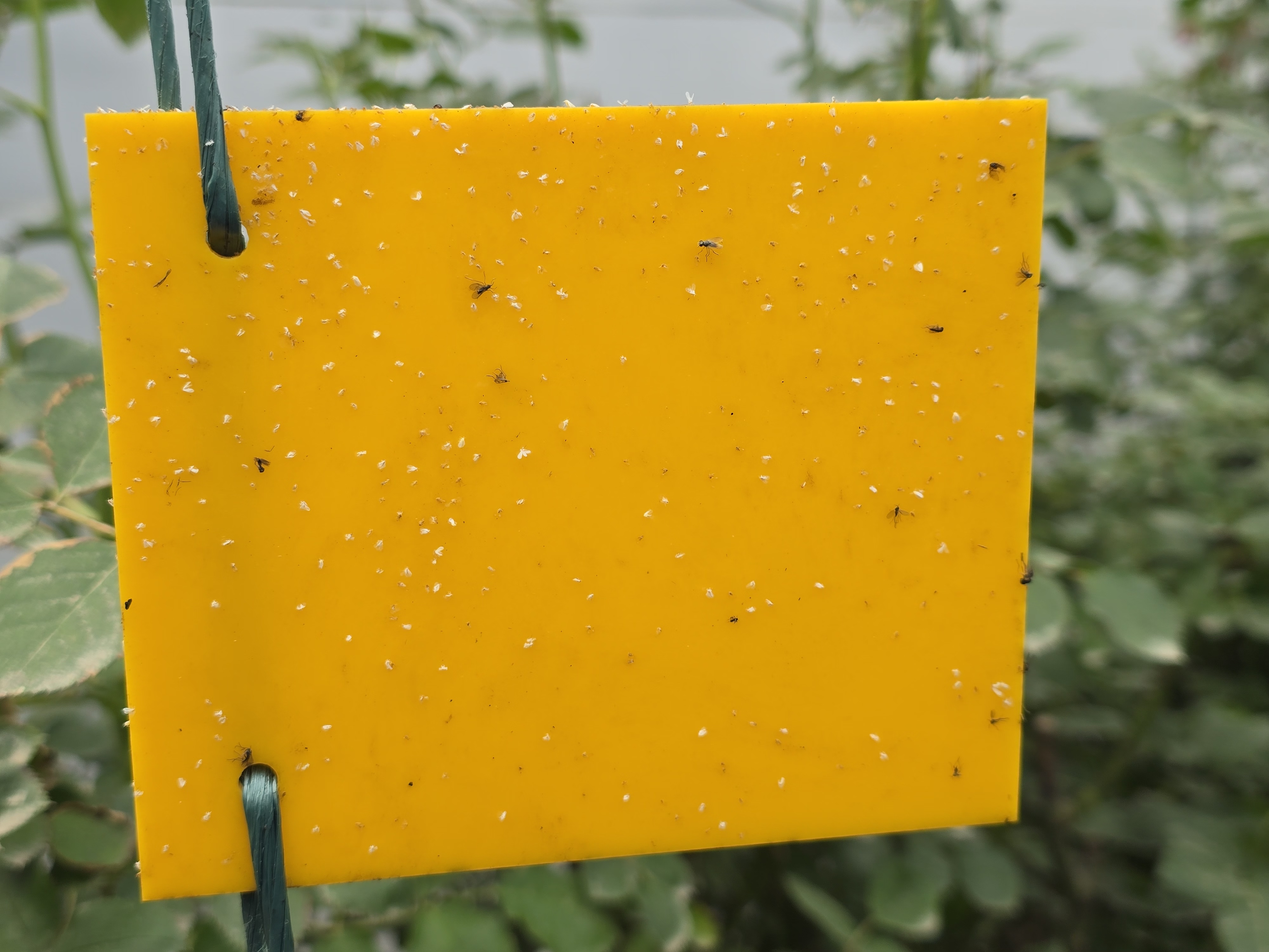WF: (682, 282, 700, 299), (856, 174, 873, 191), (693, 725, 712, 740), (516, 446, 532, 462), (936, 541, 951, 557), (786, 202, 803, 216), (557, 417, 572, 432), (683, 91, 697, 107), (950, 677, 966, 691), (182, 381, 196, 396), (912, 261, 926, 276), (703, 587, 718, 601), (440, 441, 454, 455), (510, 209, 524, 223), (716, 126, 730, 140), (881, 258, 894, 273), (774, 777, 789, 790), (993, 681, 1012, 691), (989, 688, 1006, 699), (299, 500, 312, 514), (308, 162, 321, 176), (350, 275, 364, 288), (433, 545, 447, 558), (383, 659, 396, 673), (537, 173, 551, 186), (764, 597, 778, 610), (877, 750, 891, 763), (557, 288, 570, 302), (244, 312, 259, 324), (405, 464, 421, 475), (298, 209, 312, 221), (664, 109, 678, 121), (867, 137, 879, 151), (951, 411, 963, 425), (141, 539, 156, 550), (760, 303, 775, 314), (999, 117, 1014, 128), (879, 375, 894, 386), (911, 490, 926, 501), (106, 416, 122, 426), (458, 435, 468, 451), (822, 162, 832, 178), (517, 170, 530, 182), (1016, 429, 1029, 441), (375, 539, 386, 553), (436, 663, 450, 674), (930, 393, 941, 407), (758, 474, 772, 485), (950, 667, 964, 678), (561, 100, 578, 109), (848, 378, 865, 387), (321, 363, 336, 373), (690, 122, 700, 137), (836, 247, 851, 257), (674, 551, 689, 561), (151, 416, 163, 428), (642, 508, 654, 520), (509, 301, 525, 310), (135, 523, 148, 534), (309, 824, 322, 835), (354, 142, 367, 153), (672, 166, 685, 177), (868, 732, 881, 743), (272, 423, 283, 436), (186, 355, 200, 365), (370, 122, 384, 132), (249, 172, 263, 182), (294, 603, 308, 613), (791, 188, 805, 198), (813, 581, 827, 591), (404, 103, 419, 112), (501, 102, 516, 111), (127, 399, 138, 411), (222, 414, 234, 425), (177, 777, 188, 789), (369, 136, 381, 147), (270, 183, 281, 195), (332, 198, 344, 209), (371, 330, 383, 341), (447, 518, 459, 529), (498, 810, 509, 822), (429, 113, 440, 125), (675, 138, 686, 150), (719, 820, 731, 831), (188, 466, 201, 476), (285, 451, 298, 461), (433, 582, 443, 595), (439, 122, 452, 132), (696, 150, 709, 160), (798, 155, 808, 168), (989, 246, 1002, 256), (994, 433, 1007, 443), (745, 580, 758, 590), (777, 725, 790, 735), (698, 802, 708, 815), (263, 263, 277, 272), (401, 623, 415, 632), (617, 100, 631, 109), (884, 399, 898, 408), (621, 793, 632, 804), (766, 120, 777, 131), (827, 108, 838, 119), (147, 380, 157, 392), (122, 707, 137, 715), (300, 763, 312, 773), (367, 844, 379, 854), (239, 129, 249, 141), (835, 125, 845, 137), (1002, 698, 1014, 708), (272, 383, 284, 393), (297, 278, 310, 287), (378, 459, 387, 472), (404, 565, 413, 578), (867, 485, 880, 494), (339, 386, 348, 399), (173, 468, 187, 476), (317, 557, 325, 571), (696, 185, 710, 193), (107, 498, 118, 508), (202, 812, 213, 822), (161, 844, 172, 854), (362, 285, 372, 296), (472, 453, 483, 463), (345, 533, 356, 543), (542, 733, 553, 743), (978, 172, 989, 182), (469, 301, 479, 312), (618, 354, 629, 364), (213, 710, 225, 719), (210, 600, 222, 609), (287, 191, 299, 200), (332, 261, 344, 270), (930, 381, 942, 390), (194, 758, 203, 770), (213, 733, 225, 742), (226, 313, 238, 322), (240, 463, 252, 472), (204, 139, 216, 148), (156, 107, 168, 116), (221, 540, 236, 547), (370, 105, 385, 112), (505, 294, 518, 302), (107, 108, 120, 116), (261, 230, 271, 240), (338, 309, 348, 319), (660, 496, 670, 506), (654, 137, 664, 147), (584, 592, 595, 601), (411, 129, 422, 138), (294, 760, 303, 771), (416, 370, 427, 379), (134, 790, 146, 798), (306, 219, 318, 227), (235, 329, 247, 337), (393, 360, 405, 368), (455, 149, 467, 157), (761, 454, 773, 462), (745, 606, 757, 614), (95, 107, 107, 115), (356, 451, 369, 458), (419, 695, 432, 702), (514, 499, 527, 506), (232, 106, 242, 115), (415, 190, 424, 200), (527, 113, 537, 122), (322, 724, 333, 732), (307, 143, 318, 151), (325, 253, 336, 261), (420, 528, 431, 536), (177, 374, 191, 380), (362, 191, 374, 198), (523, 643, 535, 650), (460, 105, 474, 111), (977, 159, 989, 166), (219, 716, 228, 725), (378, 242, 387, 251), (101, 408, 109, 418), (345, 634, 353, 644), (487, 565, 497, 573), (467, 186, 477, 194), (851, 284, 861, 292), (90, 161, 100, 169), (174, 107, 184, 115), (132, 477, 143, 484), (284, 327, 291, 338), (572, 577, 583, 584), (555, 179, 566, 186), (180, 348, 192, 354), (295, 317, 304, 325), (527, 637, 539, 643), (589, 103, 601, 109), (791, 182, 803, 188), (1018, 96, 1030, 102), (491, 294, 500, 302), (145, 261, 154, 269), (198, 499, 208, 506), (204, 699, 214, 706), (136, 109, 146, 116), (268, 105, 276, 113), (461, 143, 470, 150), (276, 107, 285, 114), (124, 722, 134, 728), (168, 459, 179, 464), (139, 557, 150, 562), (339, 107, 350, 112), (409, 197, 420, 202), (444, 593, 455, 598), (432, 559, 439, 566), (351, 404, 359, 410), (147, 108, 155, 114), (242, 107, 249, 113), (247, 107, 254, 113)
